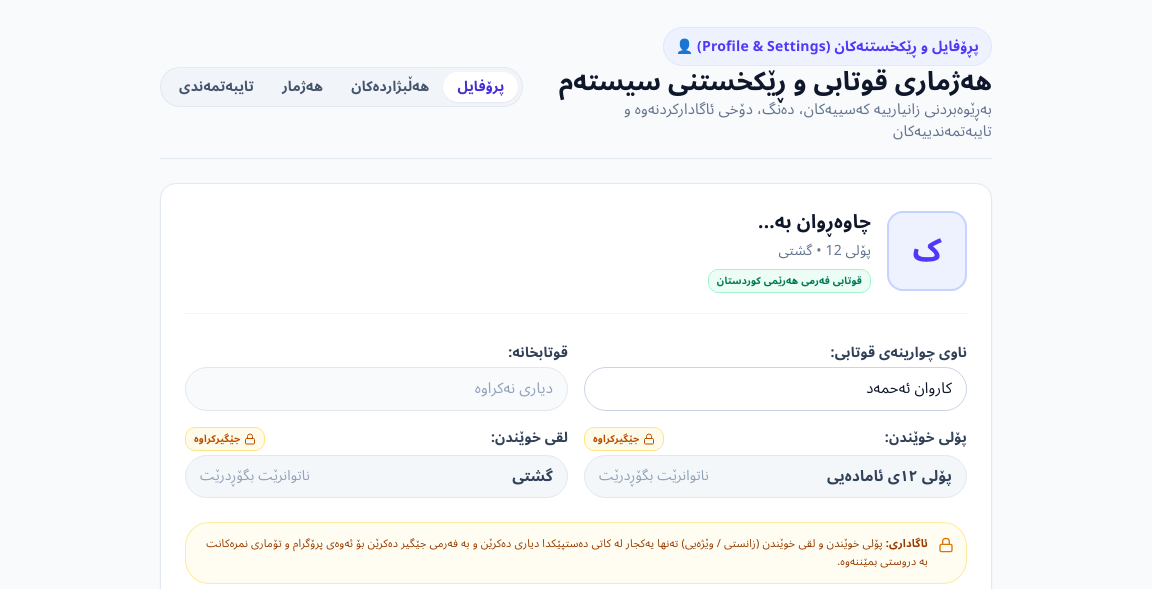
Test: ProfileAndSettings - Data Usage & Privacy Section › displays student-friendly privacy dashboard and hides internal storage keys from students even if store role is tampered
The width and height of the screenshot is (1152, 589).
Click the button "تایبەتمەندی" at (216, 87), box x1=165 y1=72 x2=268 y2=102
(page scrolled)
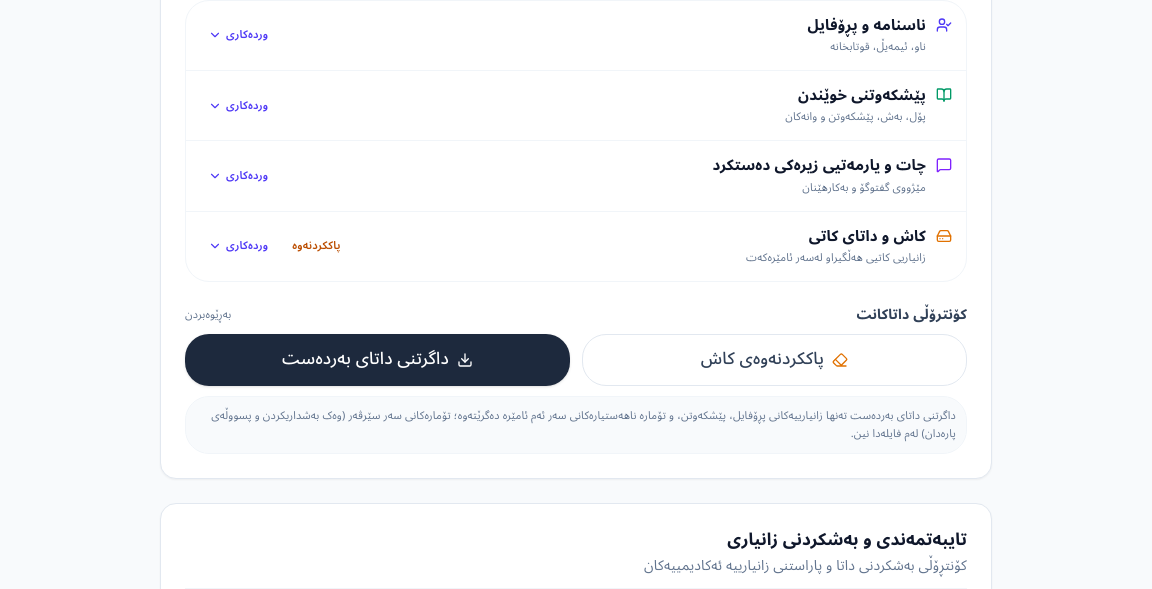
expect the text "ناسنامە و پڕۆفایل" is shown: met, box x1=807 y1=15 x2=926 y2=36
expect the text "پێشکەوتنی خوێندن" is shown: met, box x1=785 y1=85 x2=926 y2=106
expect the text "چات و یارمەتیی زیرەکی دەستکرد" is shown: met, box x1=712 y1=155 x2=926 y2=177
Click the button "داگرتنی داتای بەردەست" at (378, 360), box x1=185 y1=334 x2=570 y2=386
(page scrolled)
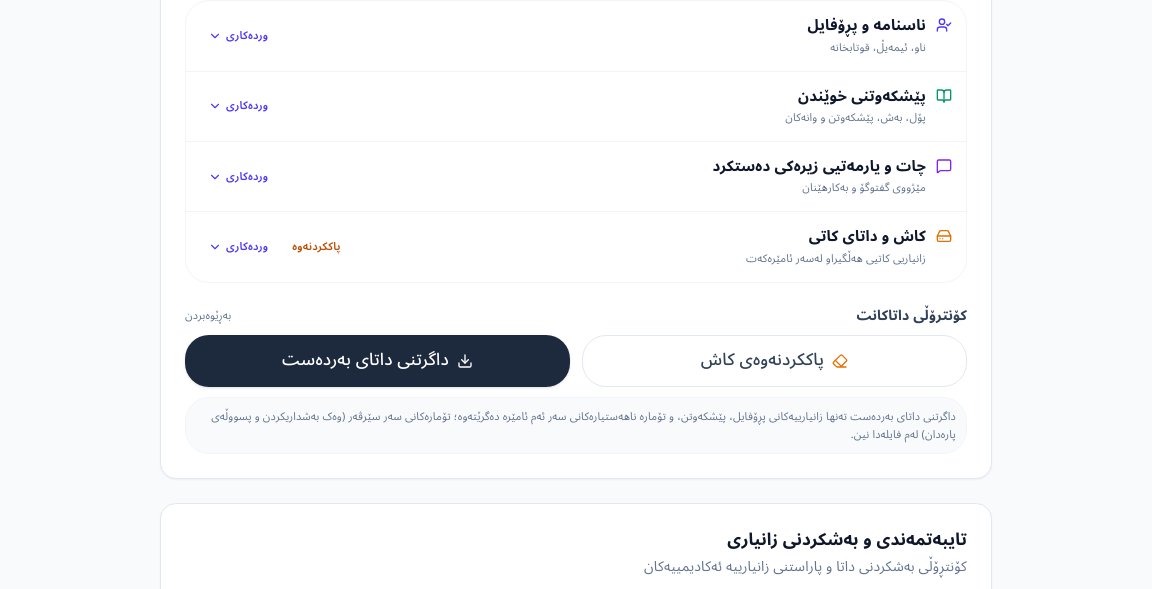
# Expand 'ناسنامە و پڕۆفایل' details to confirm verified student identity values
Click the button "وردەکاری" in the row of "ناسنامە و پڕۆفایل" at (238, 36), box x1=200 y1=18 x2=276 y2=54
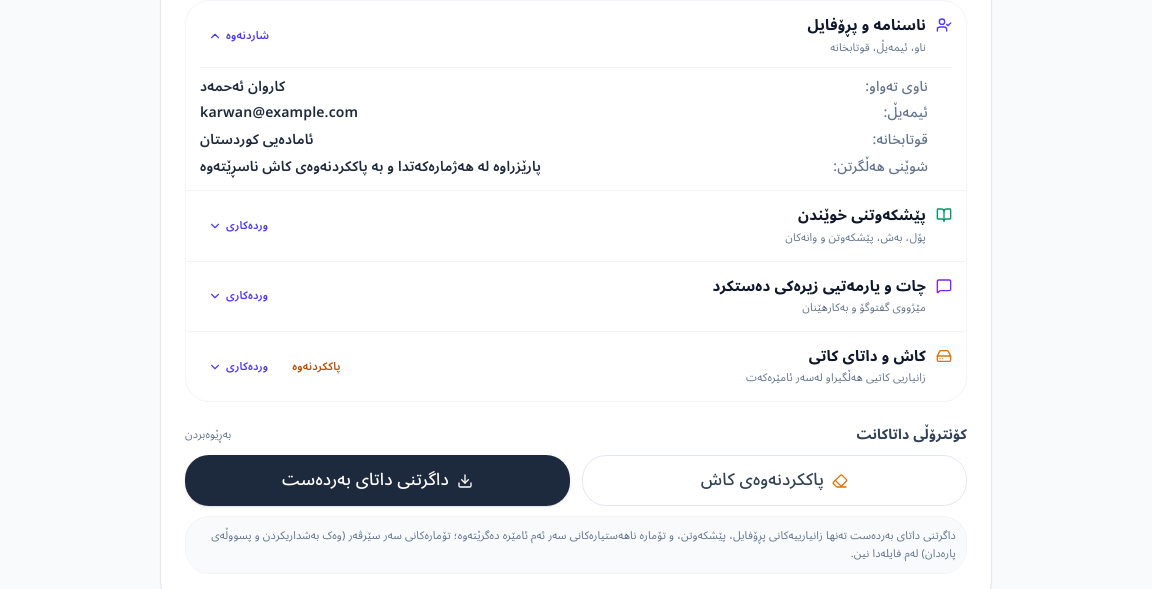
expect the text "کاروان ئەحمەد" is shown: met, box x1=200 y1=78 x2=285 y2=96
expect the text "karwan@example.com" is shown: met, box x1=200 y1=104 x2=358 y2=123
expect the text "ئامادەیی کوردستان" is shown: met, box x1=200 y1=131 x2=314 y2=150
# Expand 'پێشکەوتنی خوێندن' details to confirm registered classification
Click the button "وردەکاری" in the row of "پۆل، بەش، پێشکەوتن و وانەکان" at (238, 226), box x1=200 y1=208 x2=276 y2=244
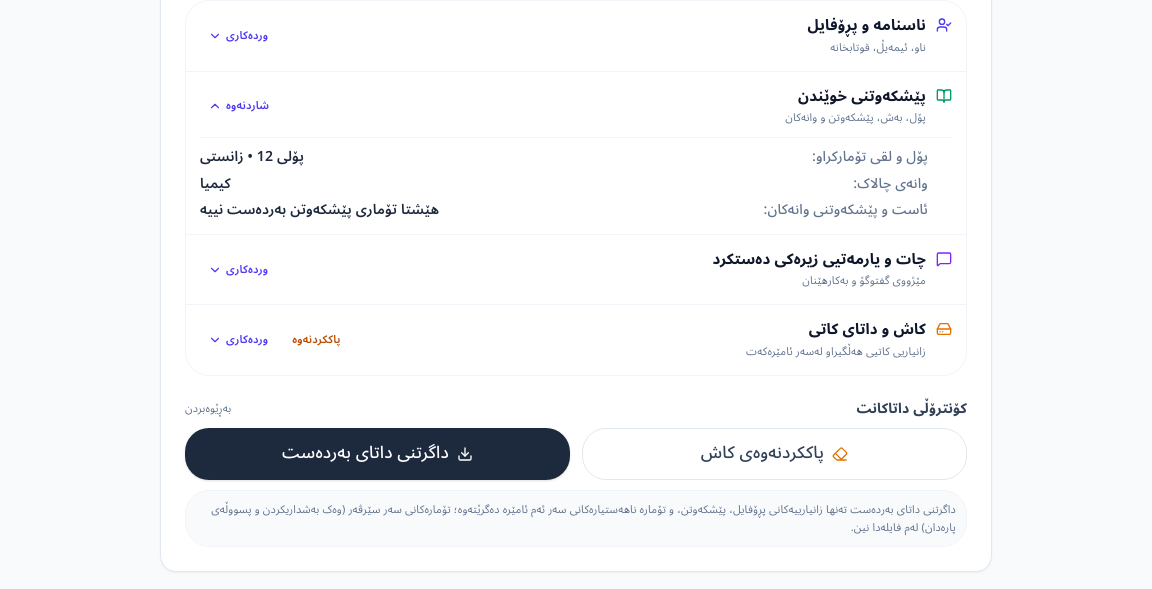
expect the text "پۆلی 12 • زانستی" is shown: met, box x1=200 y1=148 x2=304 y2=167
Click the button "وردەکاری" in the row of "چات و یارمەتیی زیرەکی دەستکرد" at (238, 270), box x1=200 y1=252 x2=276 y2=288
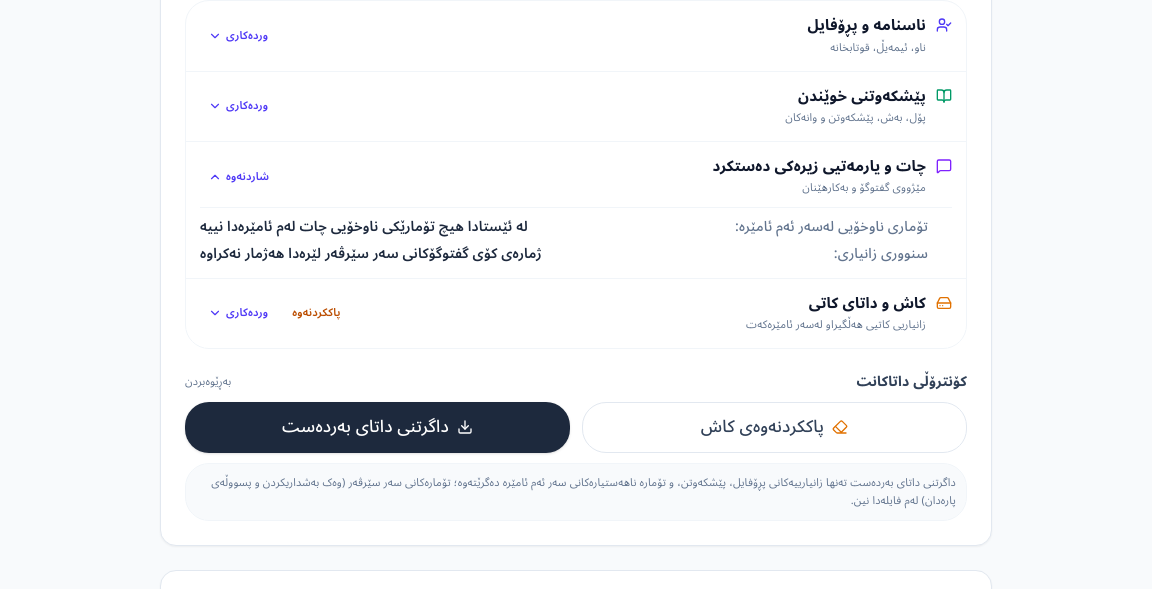
expect the text "ژمارەی کۆی گفتوگۆکانی سەر سێرڤەر لێرەدا هەژمار نەکراوە" is shown: met, box x1=200 y1=245 x2=542 y2=264
